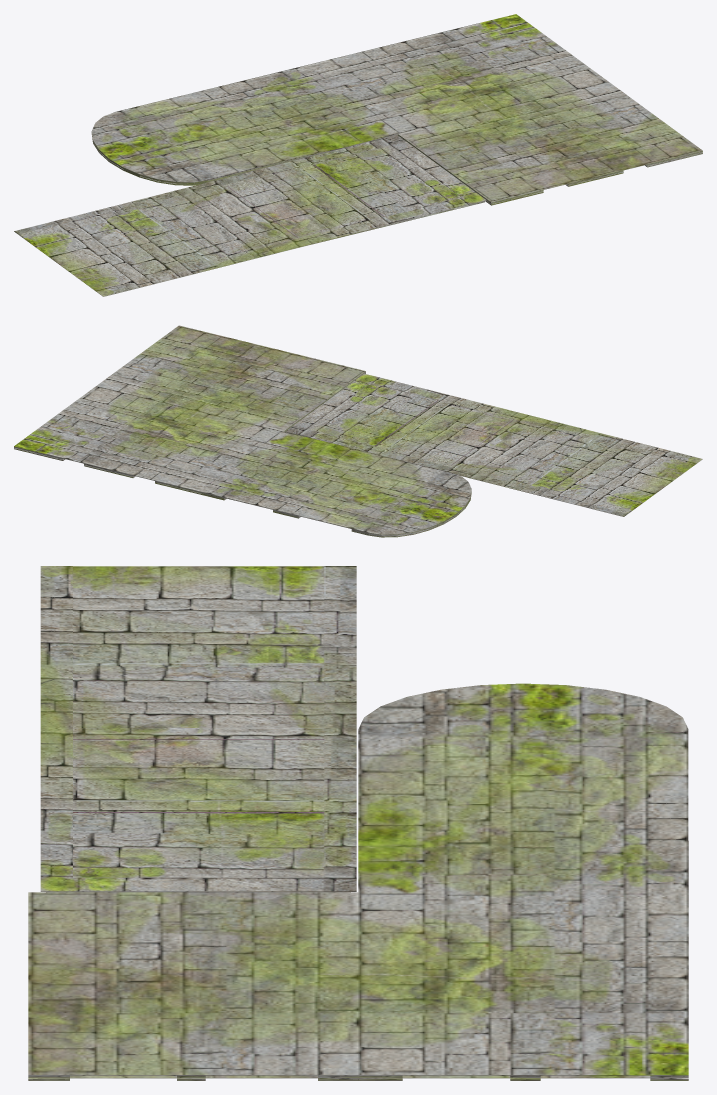
3 renders of one model, top to bottom at view 1: azimuth 30°, elevation 25°; view 2: azimuth 150°, elevation 25°; view 3: azimuth 270°, elevation 25°, orthographic. The views are drawn at different scales.
Size of the model in its own units: 37.47 by 0.2 by 20.32.
2 materials, 2 textured.
